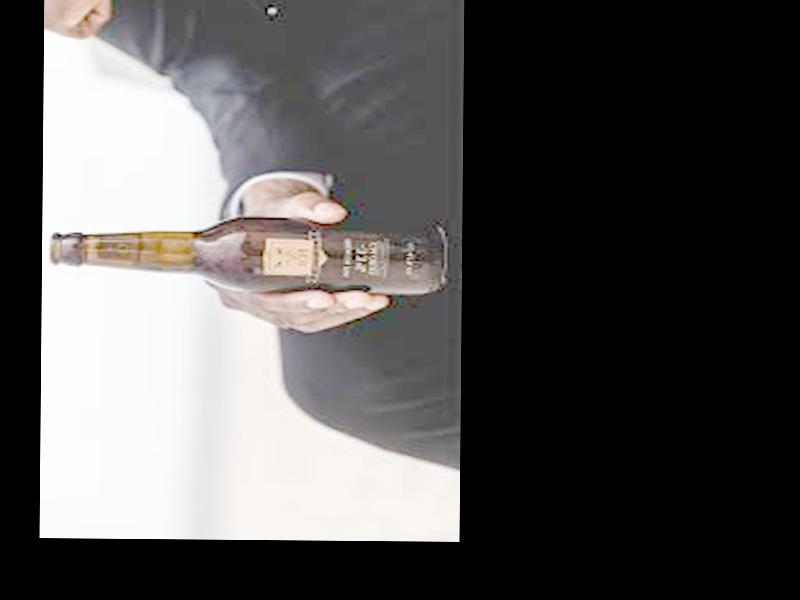Beer: (49, 217, 447, 295)
